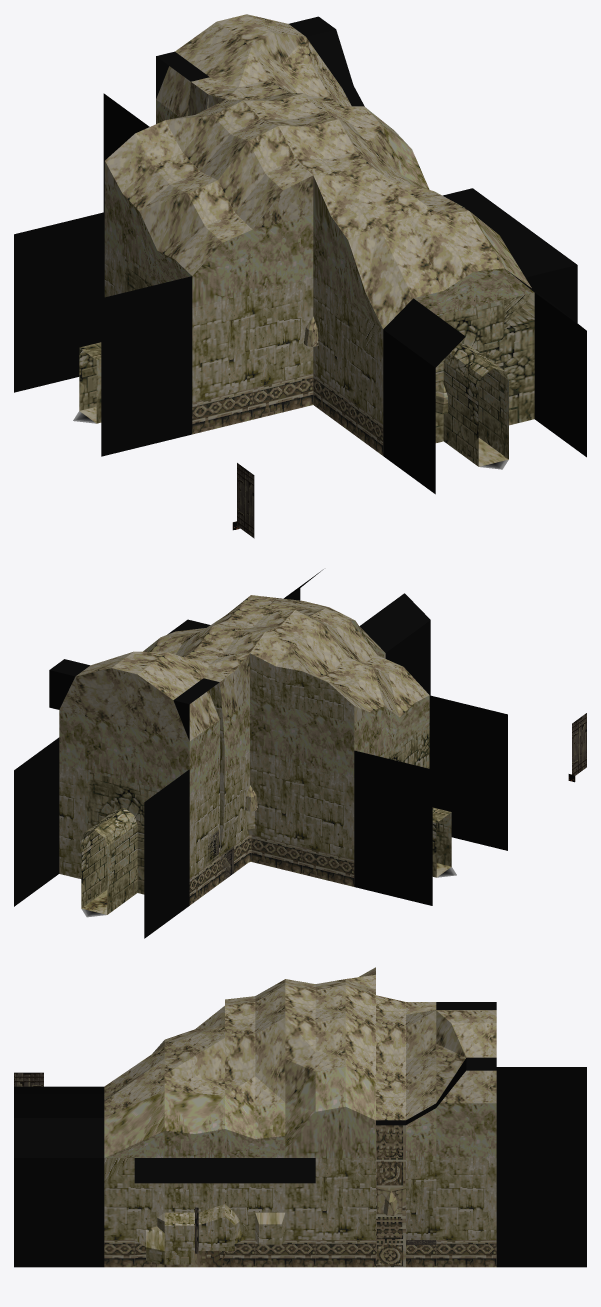
File: MAP017.obj
3 renders of one model, top to bottom at view 1: azimuth 30°, elevation 25°; view 2: azimuth 150°, elevation 25°; view 3: azimuth 270°, elevation 25°, orthographic. The views are drawn at different scales.
Visible parts, largest first — view 1: mesh_48, mesh_72, mesh_71, mesh_33, mesh_34, mesh_30, mesh_35, mesh_70, mesh_26, mesh_31, mesh_39, mesh_28 (+12 smaller); view 2: mesh_72, mesh_48, mesh_68, mesh_42, mesh_16, mesh_14, mesh_43, mesh_15, mesh_71, mesh_45, mesh_44, mesh_18 (+13 smaller); view 3: mesh_48, mesh_20, mesh_68, mesh_71, mesh_21, mesh_19, mesh_49, mesh_70, mesh_59, mesh_62, mesh_63, mesh_61 (+5 smaller).
Boxes of the visible parts, x1,y1,x2,y2 form: mesh_48: (105,14,503,328); mesh_72: (14,212,192,456); mesh_71: (383,270,586,494); mesh_33: (192,278,313,402); mesh_34: (192,215,313,307); mesh_30: (313,278,383,423); mesh_35: (192,175,313,434); mesh_70: (442,188,577,322); mesh_26: (435,300,508,442); mesh_31: (313,176,382,328); mesh_39: (104,181,191,283); mesh_28: (504,292,534,425); mesh_72: (354,695,507,905); mesh_48: (76,595,429,717); mesh_68: (14,737,189,938); mesh_42: (250,653,354,859); mesh_16: (81,771,161,914); mesh_14: (59,710,189,789); mesh_43: (250,698,354,777); mesh_15: (59,668,189,741); mesh_71: (284,569,430,695); mesh_45: (189,682,249,877); mesh_44: (251,835,354,886); mesh_18: (59,764,85,878); mesh_48: (104,967,496,1120); mesh_20: (104,1158,496,1239); mesh_68: (496,1067,586,1267); mesh_71: (14,1086,104,1267); mesh_21: (104,1070,496,1267); mesh_19: (105,1103,496,1157); mesh_49: (104,1066,375,1157); mesh_70: (134,1158,315,1183); mesh_59: (146,1204,234,1264); mesh_62: (255,1160,436,1244); mesh_63: (406,1240,496,1267); mesh_61: (406,1108,436,1160).
Size of the model in its own units: 179 by 104 by 243.
Materials: 20 (20 with a texture image).
